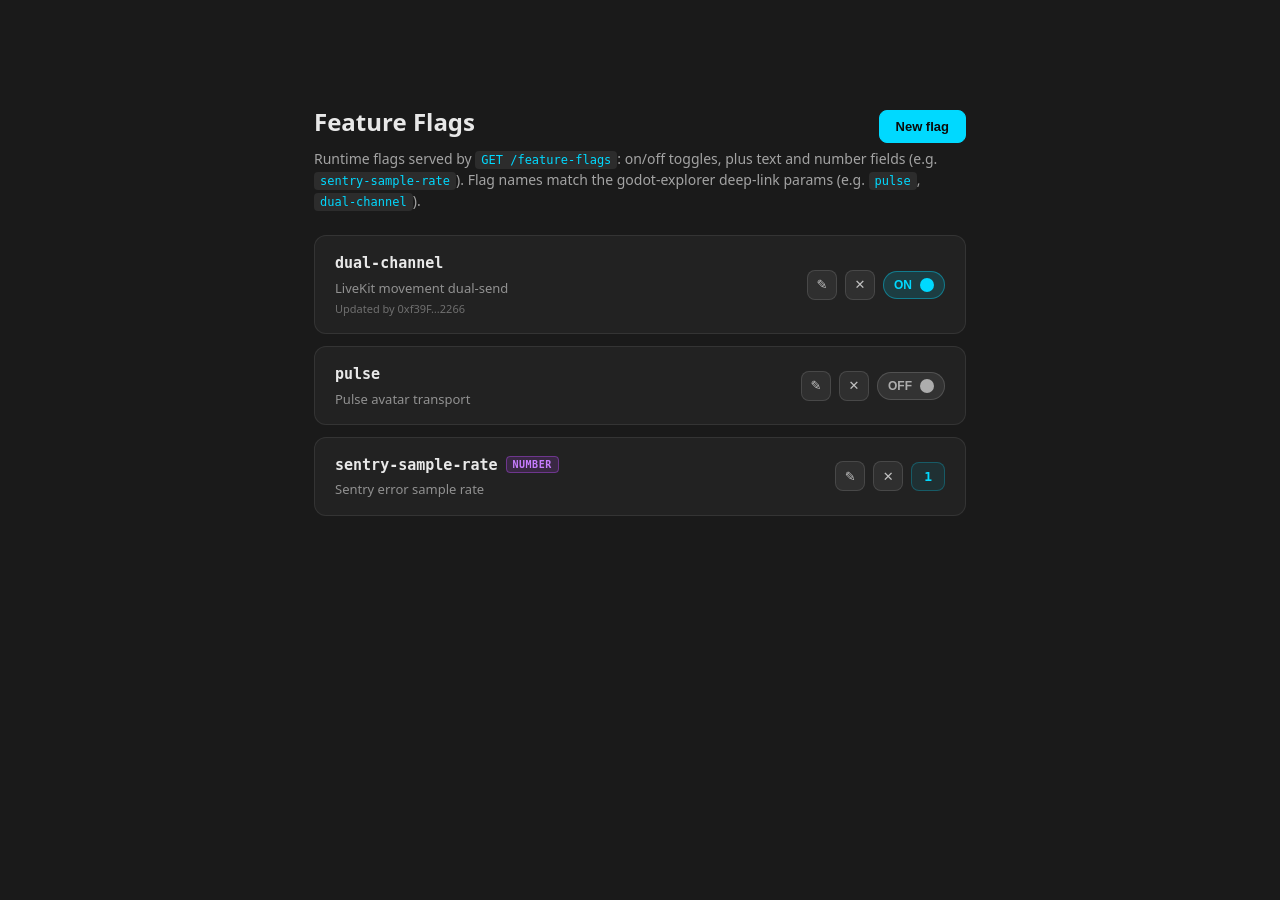
Test case: FeatureFlagsPage › keeps the dialog open and shows the error message when the save fails
Click the switch named "Toggle pulse": (911, 386) x1=877 y1=372 x2=945 y2=400
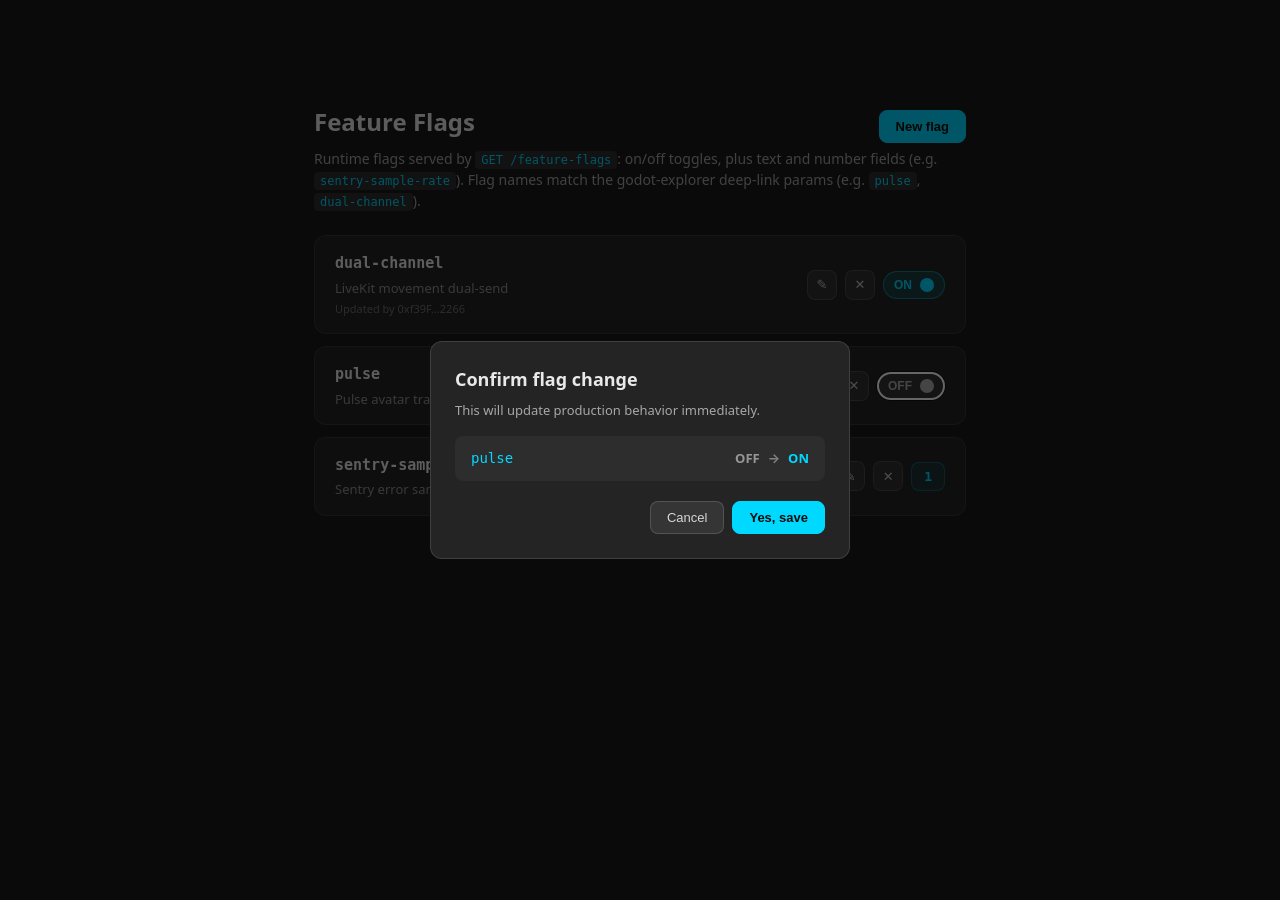
Click the button "Yes, save": (779, 518) x1=732 y1=501 x2=825 y2=534
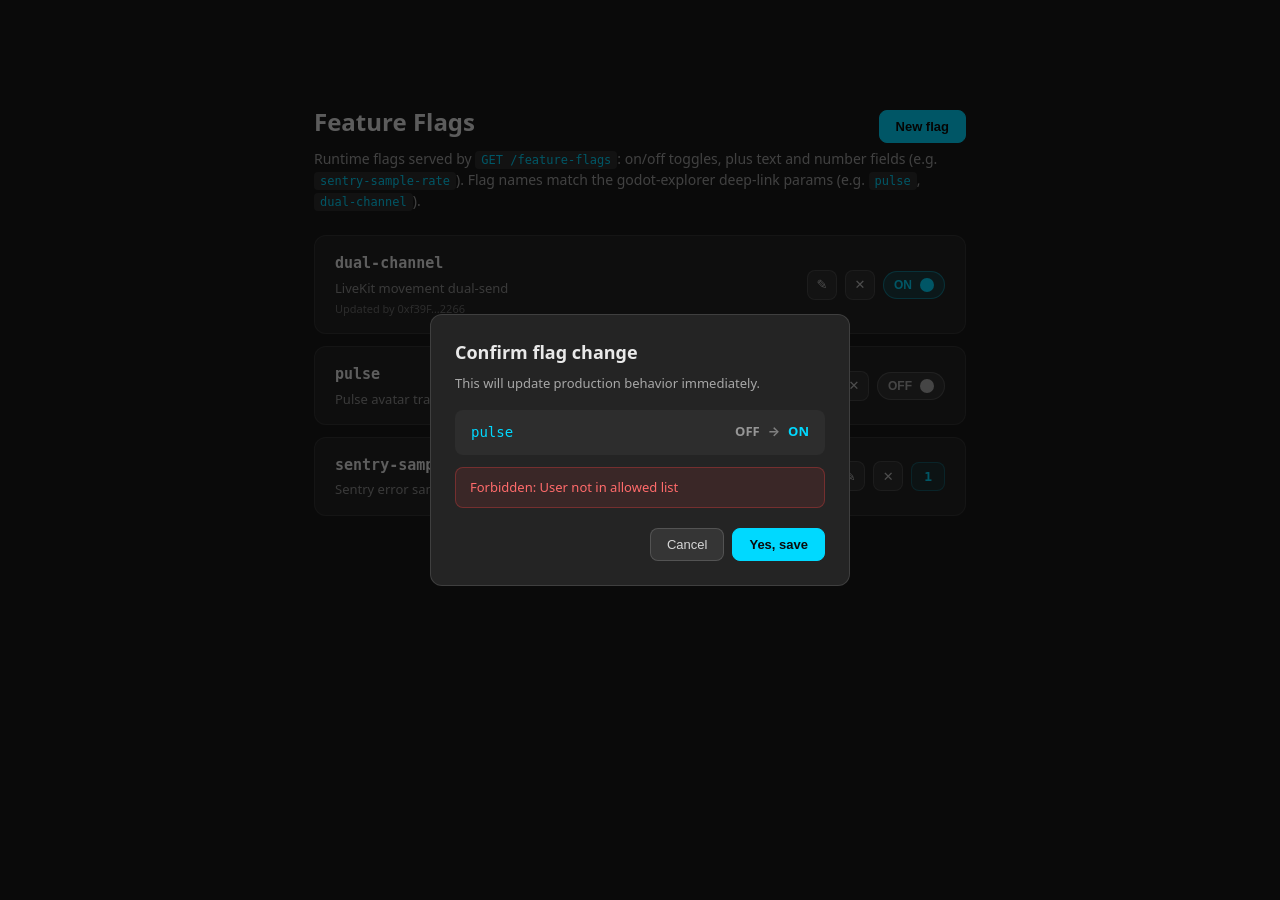
Check: the dialog is shown, box x1=430 y1=314 x2=850 y2=586
Check: the text "Forbidden: User not in allowed list" is shown, box x1=455 y1=466 x2=825 y2=508
